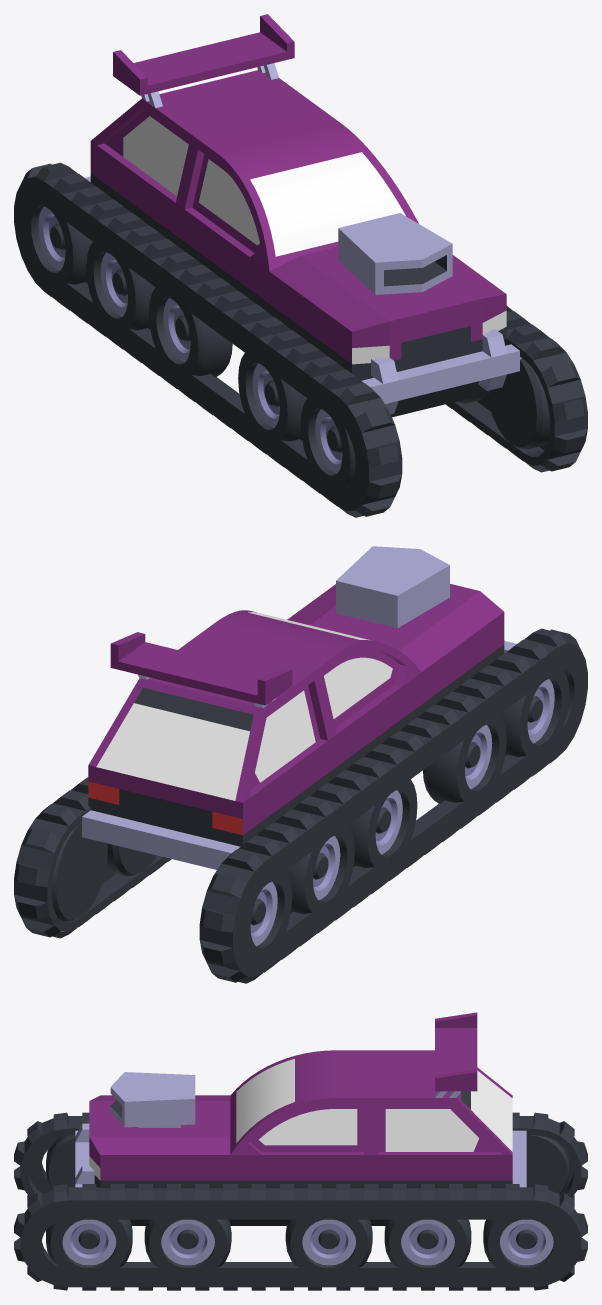
Rendered from Player_Car 3.fbx.
3 views of the same model, one above another, from view 1: azimuth 30°, elevation 25°; view 2: azimuth 150°, elevation 25°; view 3: azimuth 270°, elevation 25° (orthographic). The views are drawn at different scales.
Parts seen in each view (by area): view 1: wheel_standard (×6), body_topRound, body_frontSUV, track_smoothSide (×3), Group (×3), body_topStandard, track_smoothCenter (×4), detail_engine, spoiler_fins, bumper_detailed, body_backSolid, body_standard; view 2: wheel_standard (×7), body_topStandard, track_smoothSide (×3), Group (×3), body_backSolid, body_frontSUV, body_topRound, track_smoothCenter (×4), detail_engine, spoiler_fins, bumper, body_standard; view 3: wheel_standard (×7), track_smoothSide (×4), Group (×3), body_topRound, body_topStandard, body_frontSUV, track_smoothCenter (×3), body_standard, body_backSolid, detail_engine, spoiler_fins, bumper_detailed (+1 smaller).
Boxes of the visible parts, box(x1,y1,x2,y2) form: wheel_standard (×6): box(23, 191, 550, 490); body_topRound: box(180, 107, 418, 271); body_frontSUV: box(269, 247, 506, 417); track_smoothSide (×3): box(14, 162, 587, 517); Group (×3): box(57, 177, 348, 398); body_topStandard: box(91, 70, 318, 205); track_smoothCenter (×4): box(57, 282, 515, 496); detail_engine: box(338, 213, 452, 294); spoiler_fins: box(113, 14, 294, 107); bumper_detailed: box(361, 329, 521, 414); body_backSolid: box(90, 141, 179, 247); body_standard: box(180, 206, 269, 313); wheel_standard (×7): box(51, 664, 569, 962); body_topStandard: box(88, 639, 332, 802); track_smoothSide (×3): box(14, 628, 587, 983); Group (×3): box(254, 643, 544, 870); body_backSolid: box(88, 738, 332, 846); body_frontSUV: box(287, 584, 504, 713); body_topRound: box(193, 610, 421, 737); track_smoothCenter (×4): box(89, 741, 544, 967); detail_engine: box(336, 546, 449, 628); spoiler_fins: box(110, 632, 292, 708); bumper: box(82, 810, 240, 869); body_standard: box(332, 672, 421, 778); wheel_standard (×7): box(46, 1135, 570, 1267); track_smoothSide (×4): box(14, 1112, 587, 1290); Group (×3): box(89, 1184, 512, 1219); body_topRound: box(230, 1050, 371, 1154); body_topStandard: box(371, 1050, 512, 1154); body_frontSUV: box(89, 1095, 230, 1225); track_smoothCenter (×3): box(89, 1262, 512, 1290); body_standard: box(230, 1152, 371, 1225); body_backSolid: box(371, 1152, 512, 1225); detail_engine: box(110, 1072, 195, 1127); spoiler_fins: box(435, 1012, 477, 1097); bumper_detailed: box(75, 1123, 94, 1187).
Size of the model in its own units: 14.16 by 16.4 by 40.68.
